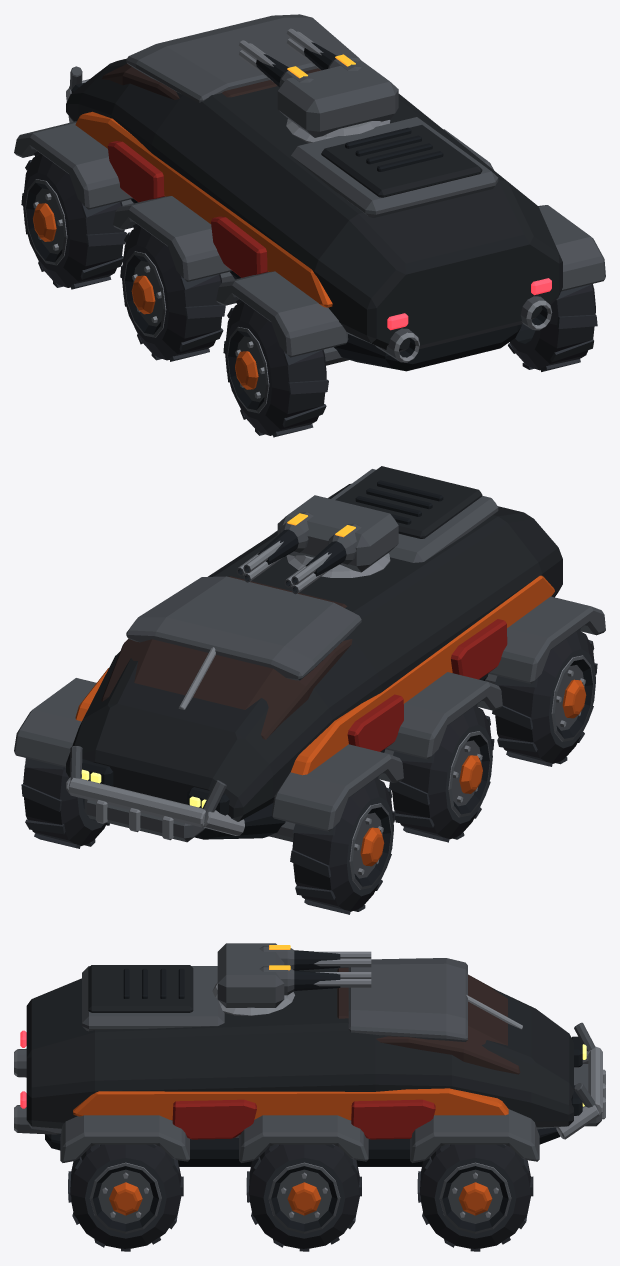
The model's file is cinder_rover.glb.
3 views of the same model, one above another, from view 1: azimuth 30°, elevation 25°; view 2: azimuth 150°, elevation 25°; view 3: azimuth 270°, elevation 25° (orthographic). The views are drawn at different scales.
Parts seen in each view (by area): view 1: Fixed_Hull, Roof_Turret_Mesh, Wheel_L_01_Mesh, Wheel_L_02_Mesh, Wheel_L_03_Mesh, Wheel_R_01_Mesh; view 2: Fixed_Hull, Wheel_L_03_Mesh, Wheel_L_01_Mesh, Roof_Turret_Mesh, Wheel_L_02_Mesh, Wheel_R_03_Mesh; view 3: Fixed_Hull, Wheel_R_03_Mesh, Wheel_R_02_Mesh, Wheel_R_01_Mesh, Roof_Turret_Mesh.
Boxes of the visible parts, left/top/right/bottom form: Fixed_Hull: left=14, top=14, right=605, bottom=371; Roof_Turret_Mesh: left=238, top=28, right=398, bottom=142; Wheel_L_01_Mesh: left=223, top=299, right=328, bottom=437; Wheel_L_02_Mesh: left=120, top=224, right=225, bottom=361; Wheel_L_03_Mesh: left=21, top=151, right=126, bottom=289; Wheel_R_01_Mesh: left=508, top=284, right=597, bottom=371; Fixed_Hull: left=14, top=466, right=605, bottom=842; Wheel_L_03_Mesh: left=290, top=776, right=395, bottom=914; Wheel_L_01_Mesh: left=492, top=628, right=597, bottom=766; Roof_Turret_Mesh: left=236, top=495, right=398, bottom=594; Wheel_L_02_Mesh: left=389, top=704, right=494, bottom=842; Wheel_R_03_Mesh: left=21, top=758, right=109, bottom=848; Fixed_Hull: left=14, top=958, right=605, bottom=1166; Wheel_R_03_Mesh: left=417, top=1144, right=533, bottom=1251; Wheel_R_02_Mesh: left=246, top=1144, right=361, bottom=1251; Wheel_R_01_Mesh: left=68, top=1144, right=183, bottom=1251; Roof_Turret_Mesh: left=212, top=943, right=371, bottom=1015.
Size of the model in its own units: 4 by 3 by 7.
